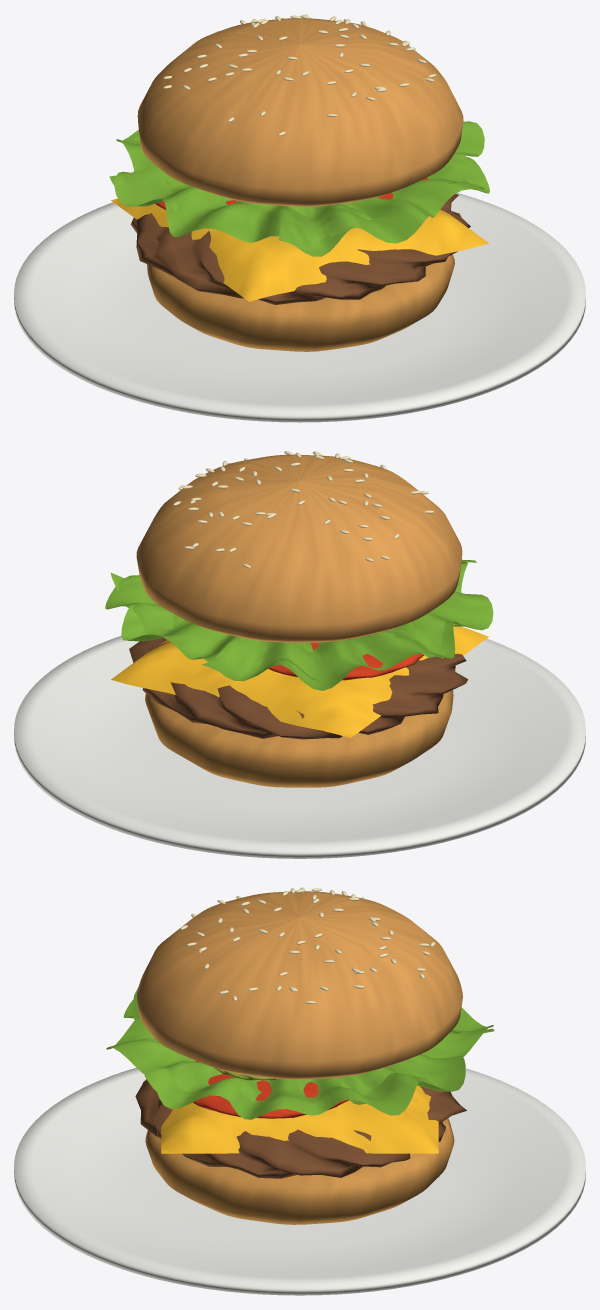
The model's file is hamburguesa-concepto.glb.
3 renders of one model, top to bottom at view 1: azimuth 30°, elevation 25°; view 2: azimuth 150°, elevation 25°; view 3: azimuth 270°, elevation 25°, orthographic.
Visible parts, largest first — view 1: Plate, TopBun, BottomBun, Cheddar, BeefPatty, Lettuce2, Lettuce1, Lettuce3, Lettuce0; view 2: Plate, TopBun, BottomBun, Cheddar, BeefPatty, Lettuce3, Lettuce4, Lettuce2, Lettuce0, Tomato0; view 3: Plate, TopBun, BottomBun, Cheddar, BeefPatty, Lettuce0, Lettuce4, Lettuce1, Tomato1.
Boxes of the visible parts, <box> form: Plate: <box>14,193,585,422</box>; TopBun: <box>137,18,463,206</box>; BottomBun: <box>147,254,454,351</box>; Cheddar: <box>111,198,488,301</box>; BeefPatty: <box>131,194,470,304</box>; Lettuce2: <box>109,167,372,256</box>; Lettuce1: <box>278,157,489,251</box>; Lettuce3: <box>114,129,233,229</box>; Lettuce0: <box>448,121,484,189</box>; Plate: <box>14,636,585,858</box>; TopBun: <box>136,454,462,642</box>; BottomBun: <box>145,690,453,787</box>; Cheddar: <box>111,626,488,738</box>; BeefPatty: <box>129,637,467,739</box>; Lettuce3: <box>201,613,473,690</box>; Lettuce4: <box>110,573,320,682</box>; Lettuce2: <box>393,562,493,658</box>; Lettuce0: <box>105,575,173,634</box>; Tomato0: <box>268,630,423,680</box>; Plate: <box>14,1067,585,1295</box>; TopBun: <box>137,891,462,1079</box>; BottomBun: <box>145,1118,454,1224</box>; Cheddar: <box>161,1085,438,1153</box>; BeefPatty: <box>135,1079,466,1178</box>; Lettuce0: <box>144,1064,437,1119</box>; Lettuce4: <box>337,1007,493,1104</box>; Lettuce1: <box>106,987,261,1109</box>; Tomato1: <box>193,1060,349,1118</box>.
Bounding box in the file's own units: 0.26 × 0.1405 × 0.26.
